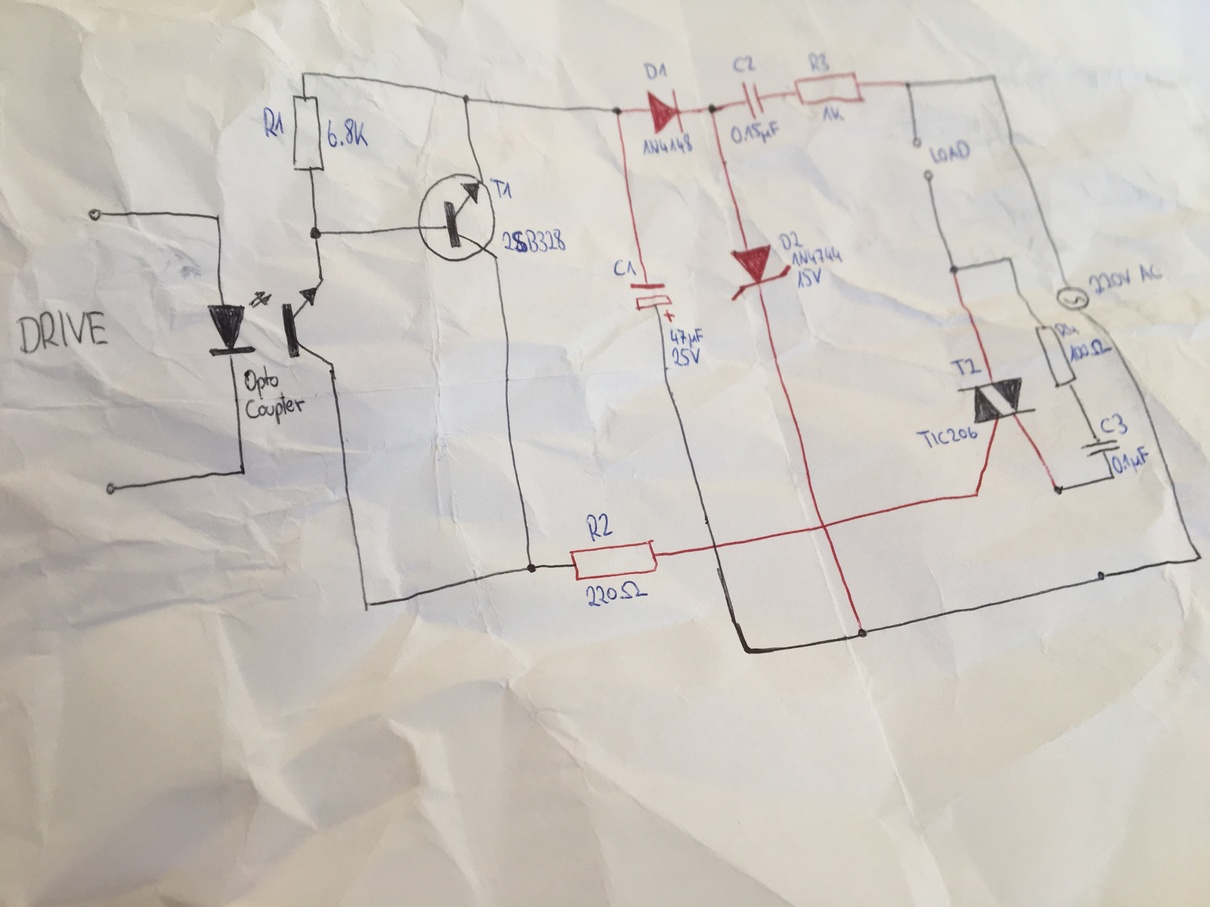capacitor.polarized: (629, 281, 676, 323)
capacitor.unpolarized: (739, 79, 770, 120), (1079, 437, 1122, 459)
crossover: (817, 521, 831, 533), (709, 541, 722, 553)
diode: (729, 243, 792, 302), (645, 87, 686, 133)
junction: (308, 225, 324, 241), (855, 624, 870, 640), (740, 644, 755, 659), (361, 599, 376, 613), (237, 465, 250, 479), (706, 101, 718, 116), (525, 562, 538, 575), (948, 263, 960, 276), (901, 77, 913, 90), (1052, 484, 1065, 496), (1194, 552, 1206, 564), (987, 72, 999, 84), (611, 105, 624, 116), (461, 93, 472, 105), (213, 212, 223, 223), (1005, 254, 1015, 264), (972, 488, 981, 499), (299, 69, 308, 78), (1108, 473, 1117, 482)
optocoupler: (206, 279, 335, 366)
resistor: (567, 538, 660, 582), (290, 92, 326, 174), (791, 70, 868, 108), (1034, 324, 1078, 390)
terminal: (87, 207, 105, 223), (104, 479, 120, 496), (921, 168, 936, 183), (911, 134, 923, 149)
text: (14, 308, 110, 356), (1087, 263, 1164, 295), (244, 391, 306, 425), (585, 578, 649, 608), (500, 226, 568, 254), (915, 425, 979, 449), (326, 115, 371, 149), (729, 119, 780, 145), (641, 132, 694, 157), (242, 364, 279, 399), (927, 138, 972, 165), (792, 246, 844, 268), (1111, 444, 1149, 474), (1069, 338, 1113, 363), (584, 512, 614, 544), (261, 104, 287, 138), (668, 326, 705, 348), (670, 346, 703, 368), (1099, 412, 1129, 436), (949, 356, 983, 377), (642, 58, 670, 82), (488, 176, 514, 201), (795, 267, 823, 290), (806, 50, 832, 74), (730, 53, 758, 75), (818, 102, 845, 124), (777, 230, 804, 251), (612, 257, 638, 277), (1053, 320, 1080, 337)
transistor: (416, 172, 498, 263)
triac: (956, 375, 1038, 428)
voltage.dc_ac: (1055, 285, 1091, 312)
